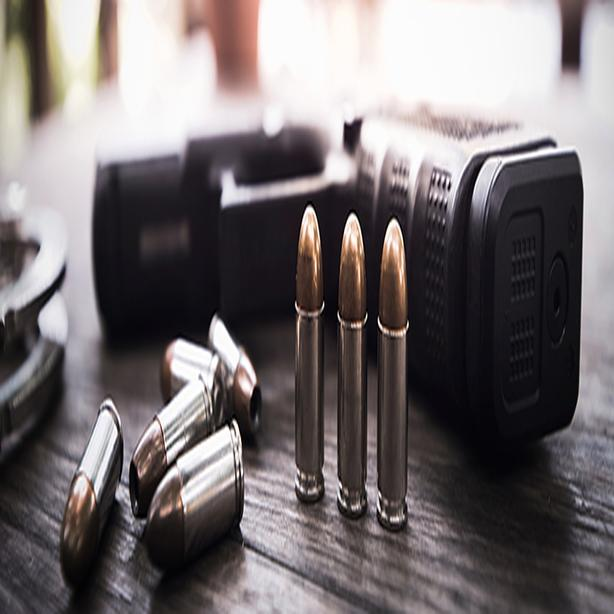Firearm: (42, 53, 607, 595)
